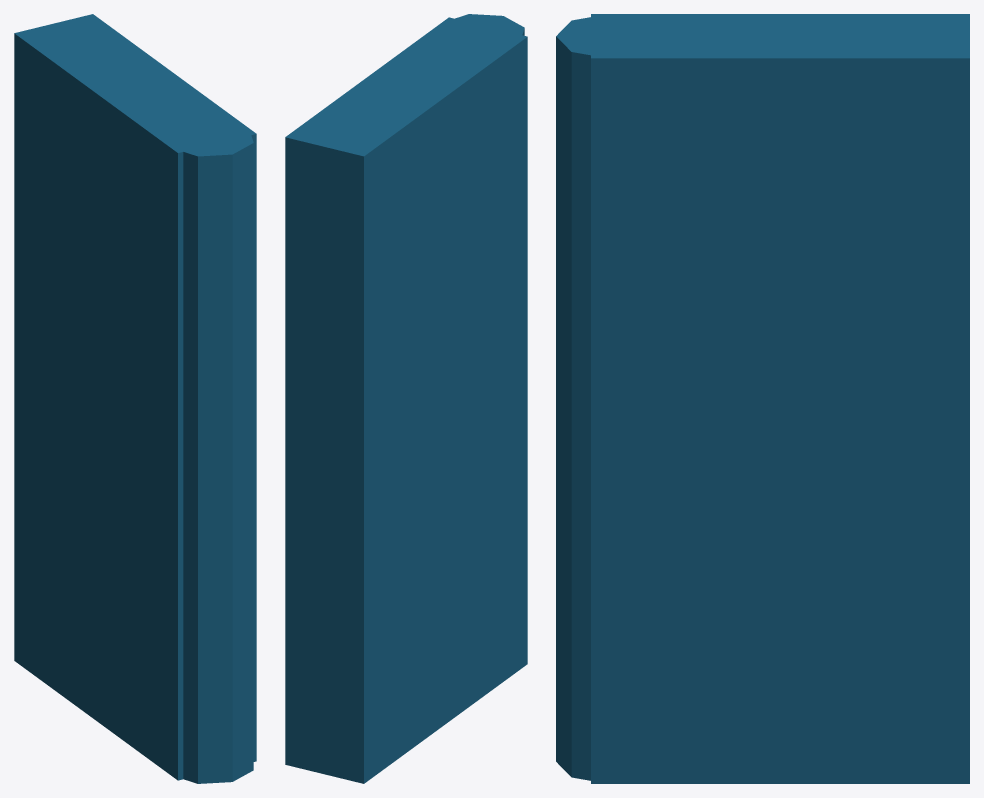
Rendered from rudder_pivot.glb.
3 views of the same model, side by side, from view 1: azimuth 30°, elevation 25°; view 2: azimuth 150°, elevation 25°; view 3: azimuth 270°, elevation 25° (orthographic). The views are drawn at different scales.
Parts seen in each view (by area): view 1: rudder, rudder_hinge; view 2: rudder, rudder_hinge; view 3: rudder, rudder_hinge.
Part boxes in pixels (x1,y1,x2,y2): rudder: [14, 14, 256, 780]; rudder_hinge: [167, 119, 253, 783]; rudder: [285, 17, 527, 783]; rudder_hinge: [437, 14, 524, 50]; rudder: [591, 14, 969, 783]; rudder_hinge: [556, 15, 660, 780].
Size of the model in its own units: 0.11 by 0.8368 by 0.4325.
